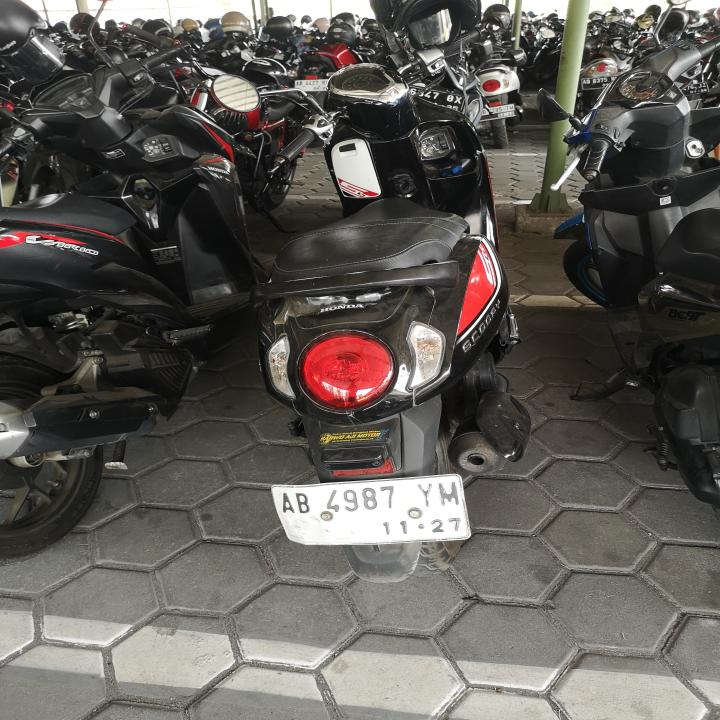plate: (268, 471, 476, 547)
